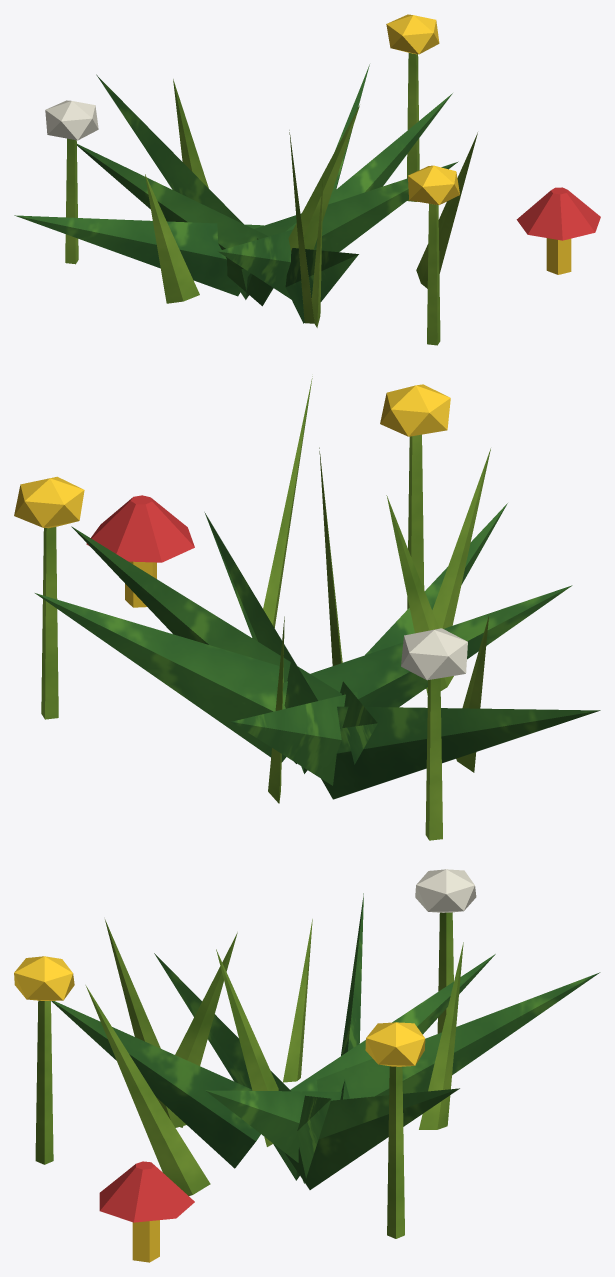
File: undergrowth_clump.glb
3 views of the same model, one above another, from view 1: azimuth 30°, elevation 25°; view 2: azimuth 150°, elevation 25°; view 3: azimuth 270°, elevation 25° (orthographic). The views are drawn at different scales.
Parts seen in each view (by area): view 1: undergrowth_clump; view 2: undergrowth_clump; view 3: undergrowth_clump.
Boxes of the visible parts, x1,y1,x2,y2 form: undergrowth_clump: [14, 14, 600, 345]; undergrowth_clump: [14, 376, 600, 840]; undergrowth_clump: [14, 869, 600, 1262].
Bounding box in the file's own units: 1.3 × 0.5527 × 1.17.
Materials: 3 (3 with a texture image).
